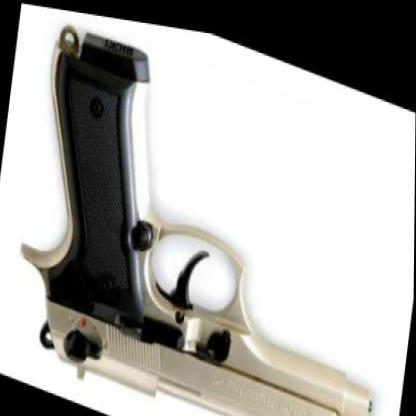pistol: (6, 4, 415, 412)
